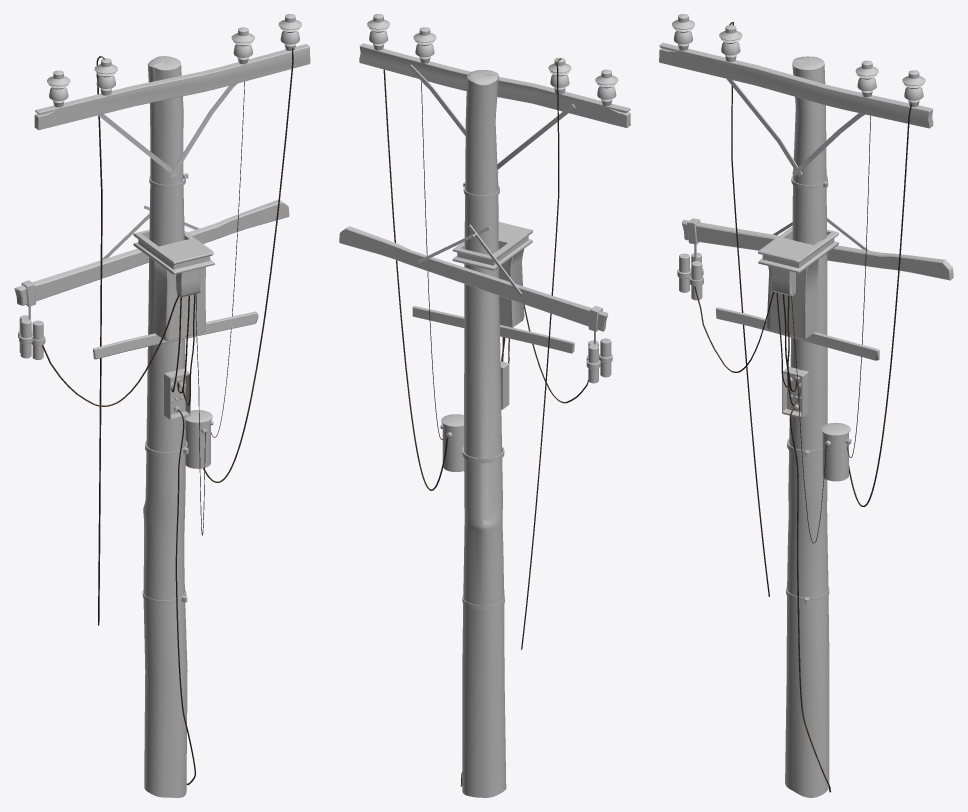
File: SM_utility_pole.gltf
3 renders of one model, left to right at view 1: azimuth 30°, elevation 25°; view 2: azimuth 150°, elevation 25°; view 3: azimuth 330°, elevation 25°, orthographic.
Visible parts, largest first — view 1: SM_utility_pole; view 2: SM_utility_pole; view 3: SM_utility_pole.
Boxes of the visible parts, bbox=[...] form: SM_utility_pole: bbox=[14, 14, 310, 797]; SM_utility_pole: bbox=[339, 14, 630, 797]; SM_utility_pole: bbox=[659, 14, 953, 797].
Size of the model in its own units: 4 by 10.64 by 1.2.
